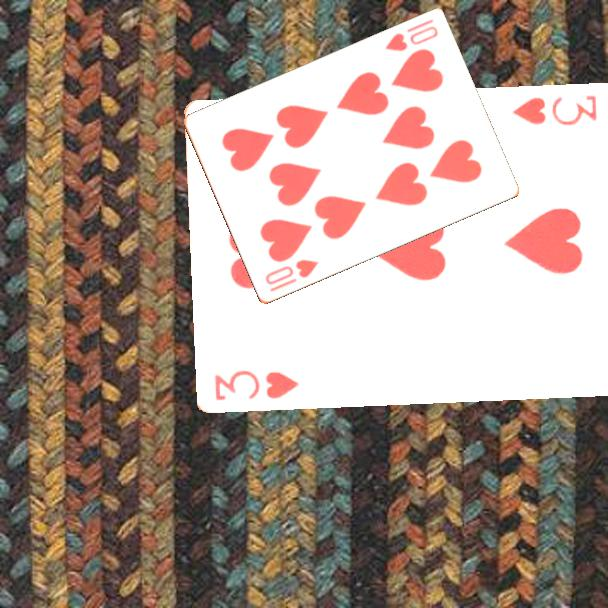h03: (509, 91, 600, 128), (212, 366, 302, 403)
h10: (261, 256, 321, 295), (381, 16, 441, 55)
